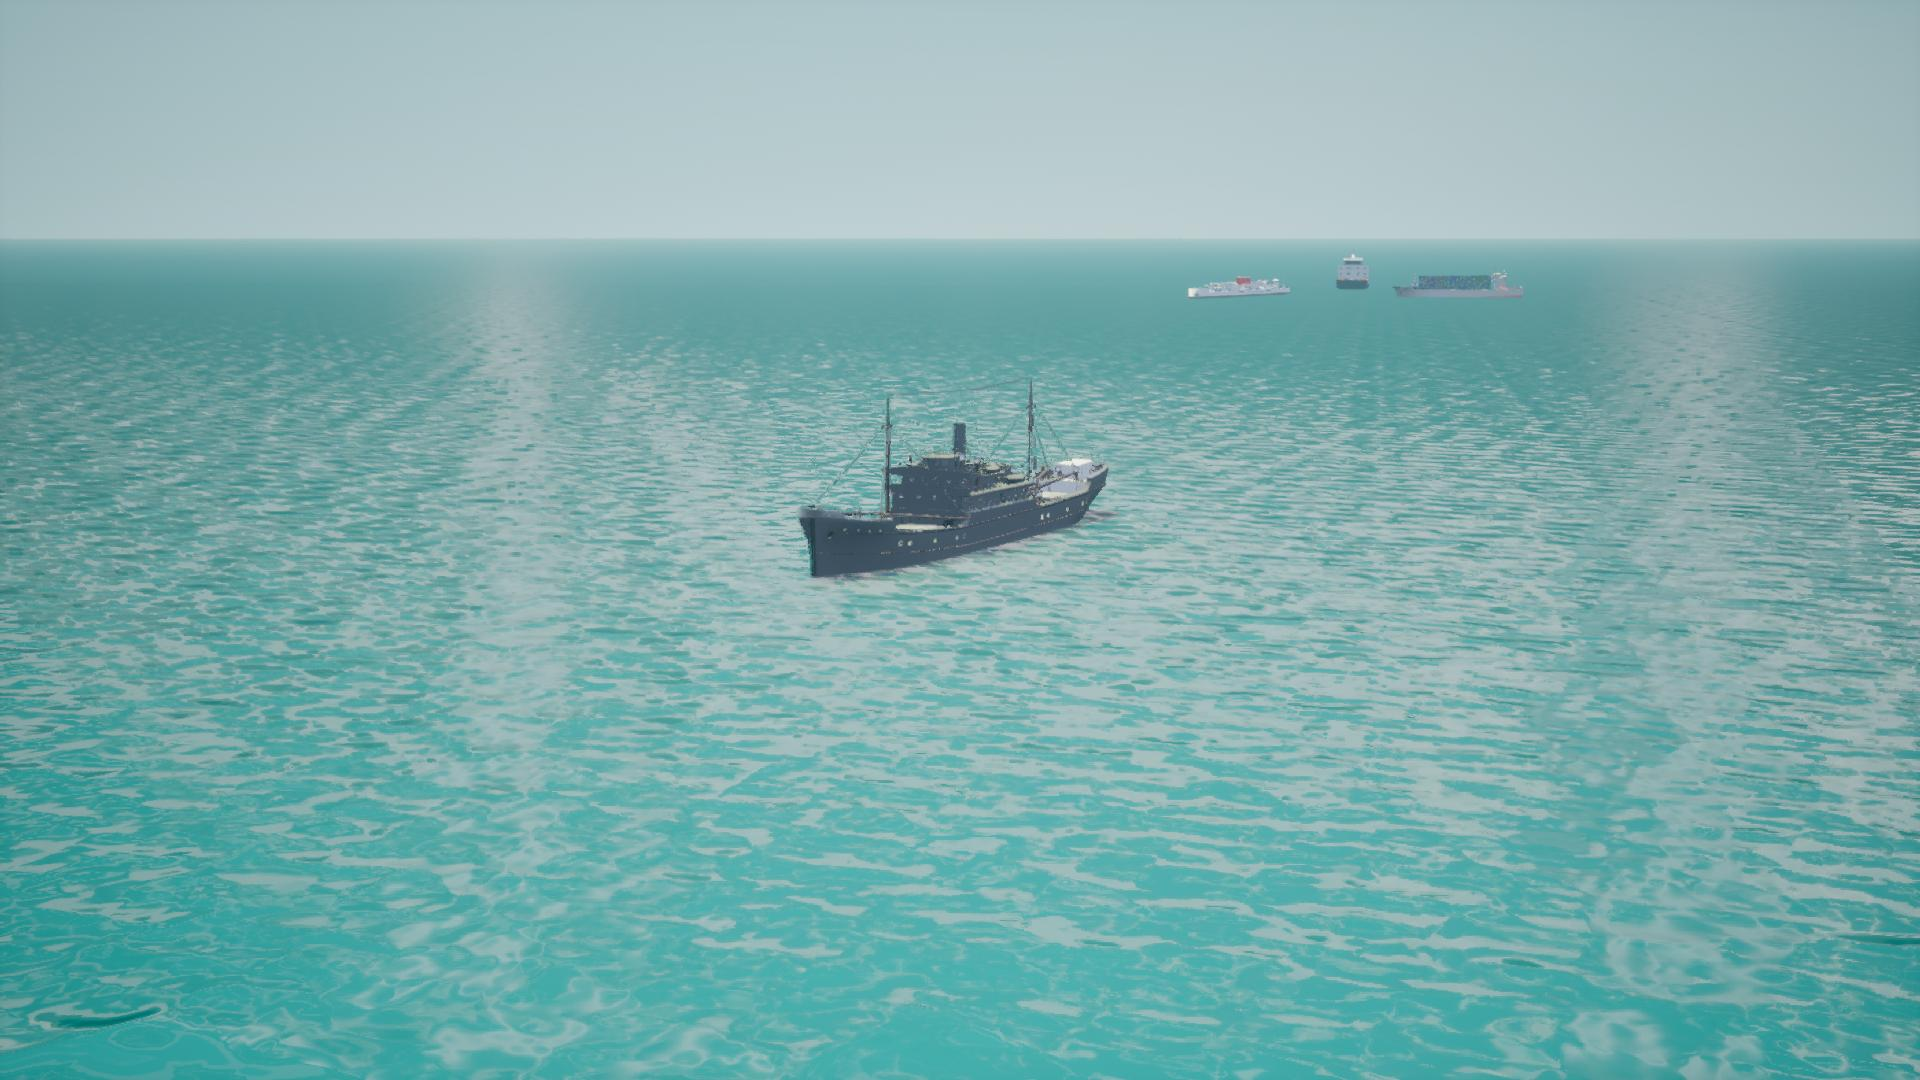Fishing Boat: (795, 388, 1110, 578), (1395, 270, 1524, 301), (1188, 276, 1294, 299), (1337, 253, 1370, 290)
